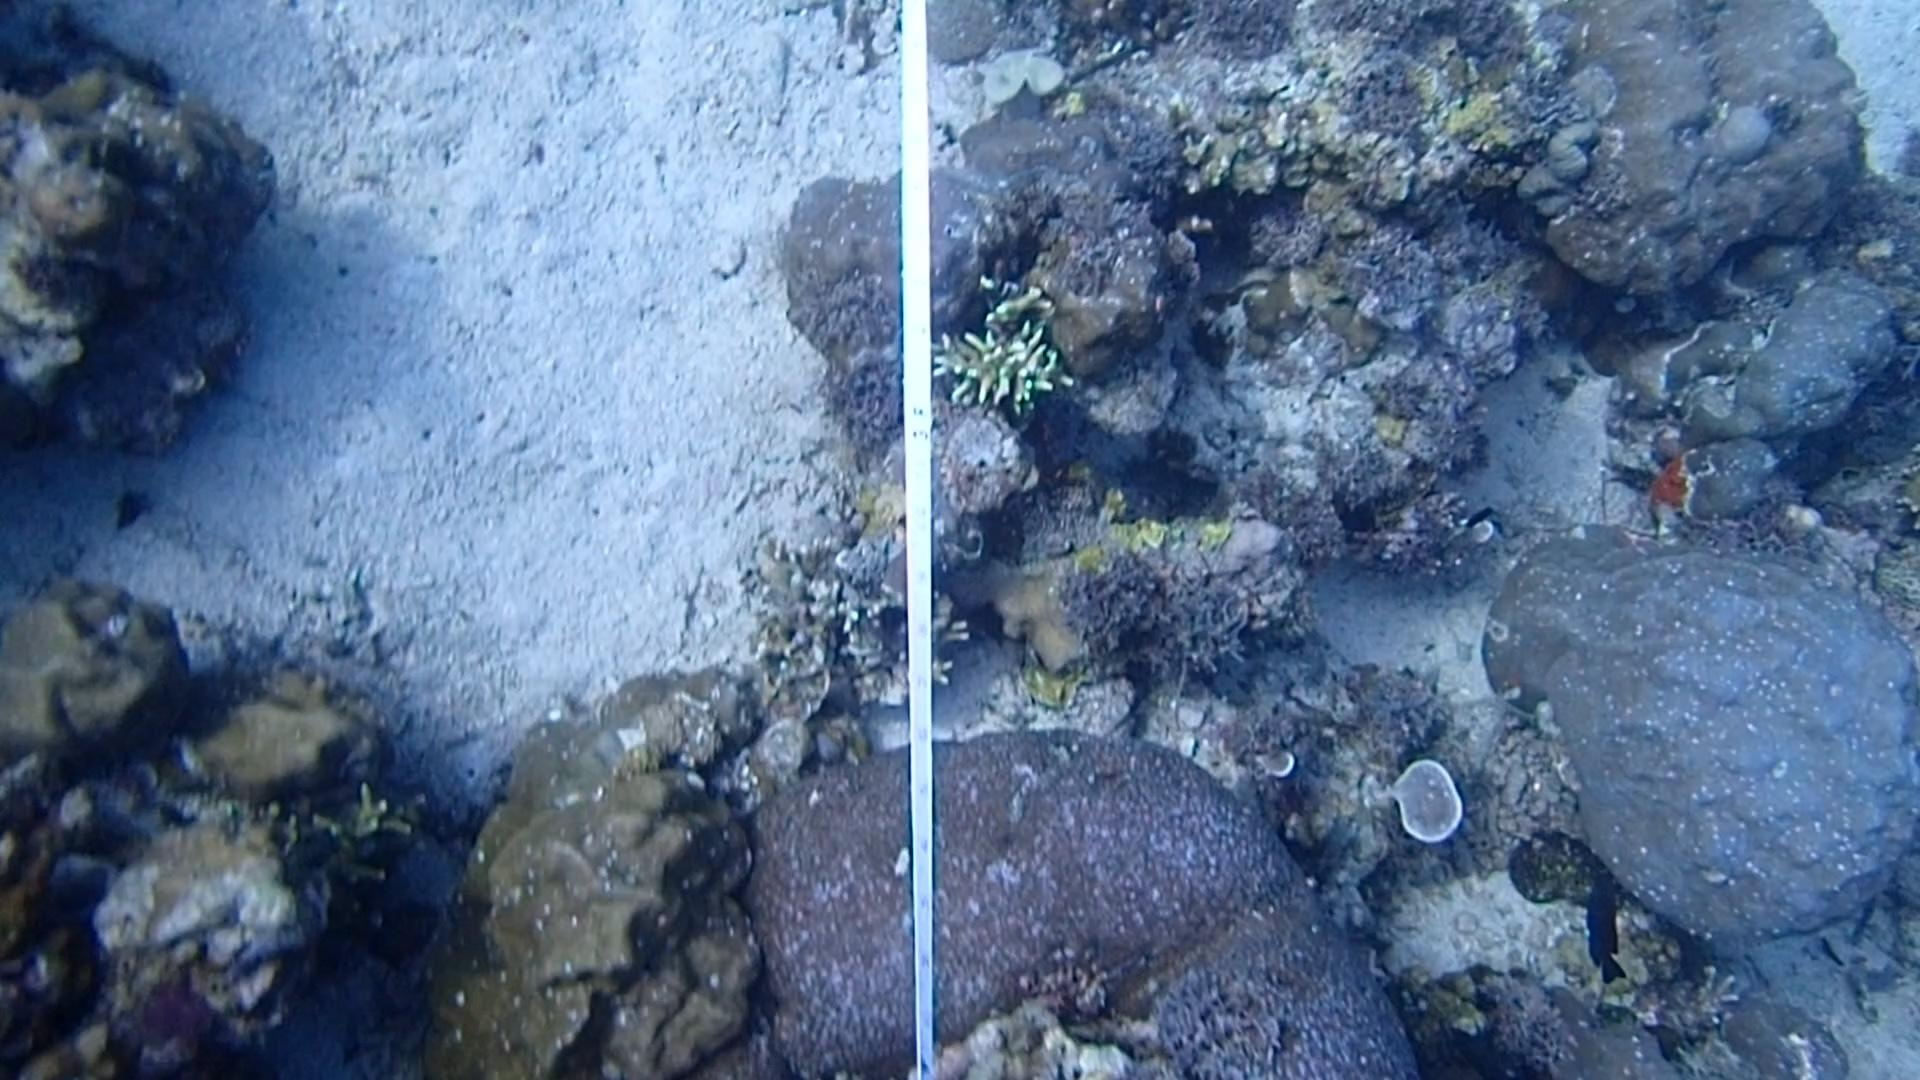Dark Fish: (1559, 865, 1644, 984)
